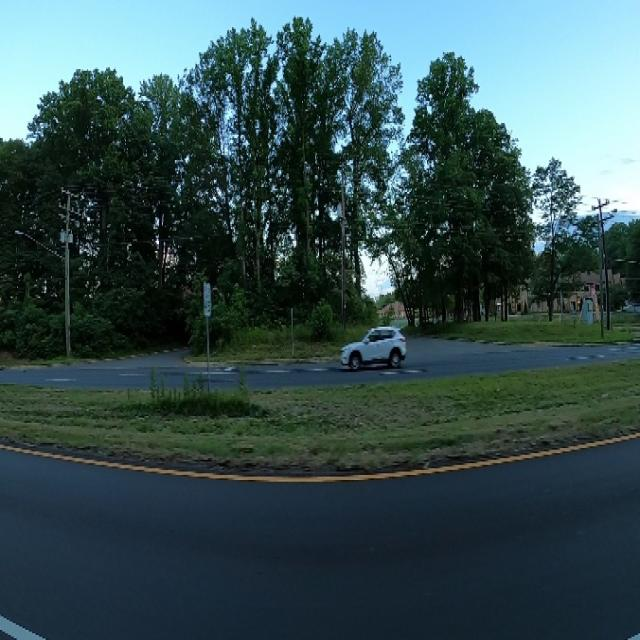car: (339, 315, 409, 370)
